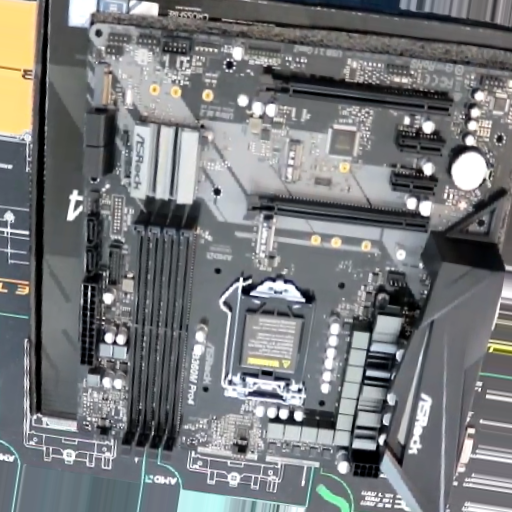CPU: (216, 273, 316, 407)
GPU: (257, 73, 452, 117), (244, 193, 431, 233)
MOTHERBOARD: (79, 23, 512, 475)
RAM: (122, 214, 198, 453)
SSD: (252, 214, 278, 270), (279, 138, 305, 182)
